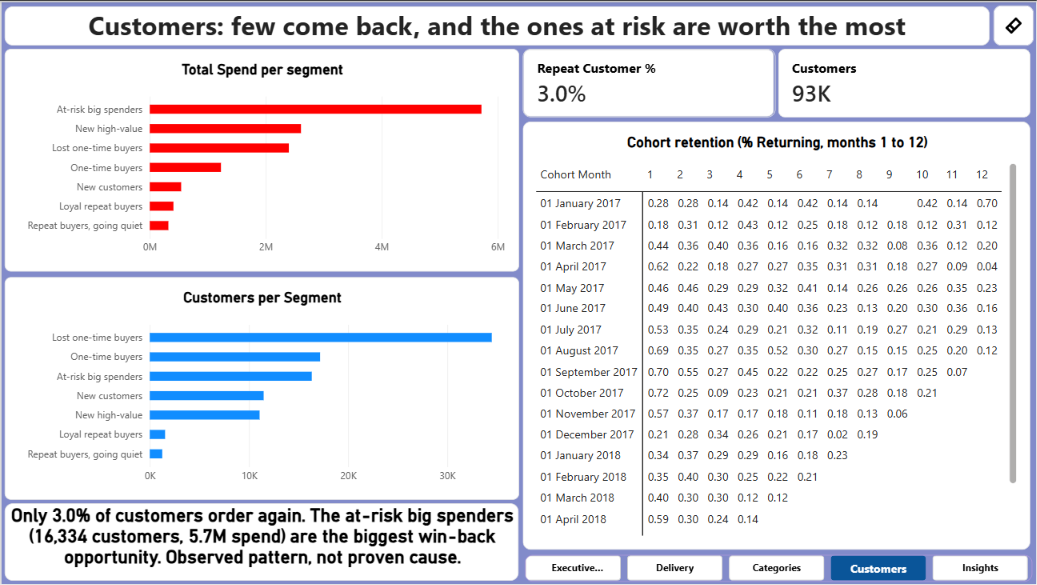

What the dashboard file says about the page in this screenshot:
{"tool":"powerbi","page":{"name":"Customers","canvas":[1280,720],"ordinal":3},"visuals":[{"type":"textbox","box":[4.2,5.4,1219.3,48],"z":0},{"type":"cardVisual","fields":{"Data":["_measures.Repeat Customer %"]},"box":[644.6,57.9,312.5,85],"z":1000},{"type":"cardVisual","fields":{"Data":["_measures.Customers"]},"box":[960.7,57.9,312.1,85],"z":2000},{"type":"barChart","title":"Customers per Segment","fields":{"Category":["agg_rfm_segments.segment"],"Y":["Sum(agg_rfm_segments.customers)"]},"box":[4.2,339.6,636.6,275.8],"z":3000},{"type":"barChart","title":"Total Spend per segment","fields":{"Category":["agg_rfm_segments.segment"],"Y":["Sum(agg_rfm_segments.total_spend)"]},"box":[4.2,57.9,636.7,275.8],"z":4000},{"type":"pivotTable","title":"Cohort retention (% Returning, months 1 to 12)","fields":{"Columns":["agg_cohort_retention.months_since_first"],"Rows":["agg_cohort_retention.cohort_month"],"Values":["Avg(agg_cohort_retention.retention_pct)"]},"box":[644.6,147.9,628.3,530],"z":5000},{"type":"actionButton","box":[1227,3.3,50.2,50.2],"z":6000},{"type":"pageNavigator","box":[647.9,684.3,627.9,33.6],"z":6001},{"type":"textbox","title":"Only 3.0% of customers order again. The at-risk big spenders (16,334 customers, 5.7M spend) are the biggest win-back opportunity. Observed pattern, not proven cause.","box":[4.3,620,636.4,95.7],"z":6002}]}

Visuals, with their boxes in screenshot pixels (x1, y1, x2, y2), scaled from the page's 1280x720 canvas onto the 1037x585 screenshot:
textbox: left=3, top=4, right=991, bottom=43
cardVisual - _measures.Repeat Customer %: left=522, top=47, right=775, bottom=116
cardVisual - _measures.Customers: left=778, top=47, right=1031, bottom=116
"Customers per Segment" barChart: left=3, top=276, right=519, bottom=500
"Total Spend per segment" barChart: left=3, top=47, right=519, bottom=271
"Cohort retention (% Returning, months 1 to 12)" pivotTable: left=522, top=120, right=1031, bottom=551
actionButton: left=994, top=3, right=1035, bottom=43
pageNavigator: left=525, top=556, right=1034, bottom=583
"Only 3.0% of customers order again. The at-risk big spenders (16,334 customers, 5.7M spend) are the biggest win-back opportunity. Observed pattern, not proven cause." textbox: left=3, top=504, right=519, bottom=582
